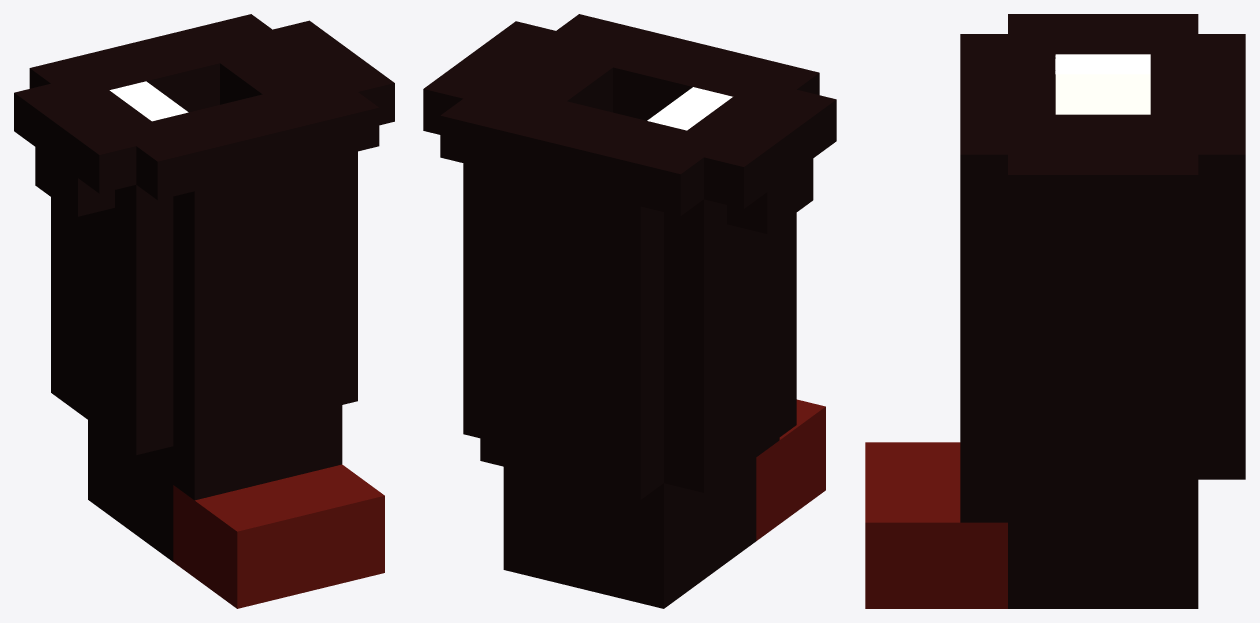
File: mystic_masterwork_glove_L_lod1.glb
3 renders of one model, left to right at view 1: azimuth 30°, elevation 25°; view 2: azimuth 150°, elevation 25°; view 3: azimuth 270°, elevation 25°, orthographic. The views are drawn at different scales.
Visible parts, largest first — view 1: mystic_masterwork_glove_L_lod1; view 2: mystic_masterwork_glove_L_lod1; view 3: mystic_masterwork_glove_L_lod1.
Boxes of the visible parts, x1=… form: mystic_masterwork_glove_L_lod1: x1=14, y1=14, x2=394, y2=608; mystic_masterwork_glove_L_lod1: x1=423, y1=14, x2=836, y2=608; mystic_masterwork_glove_L_lod1: x1=865, y1=14, x2=1245, y2=608.
Bounding box in the file's own units: 0.192 × 0.264 × 0.192.
